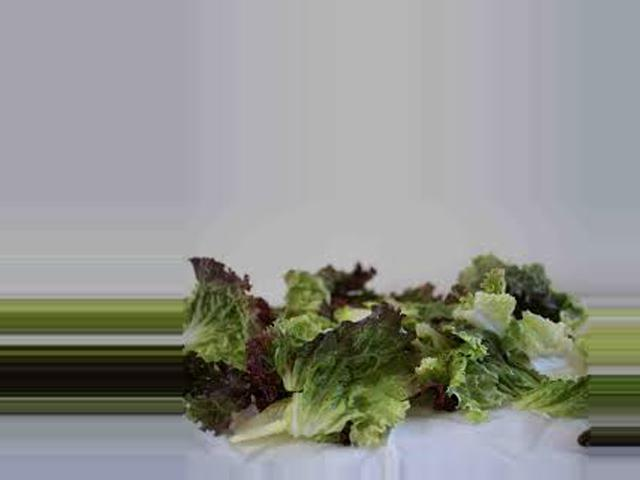lettuce: (194, 271, 565, 421)
